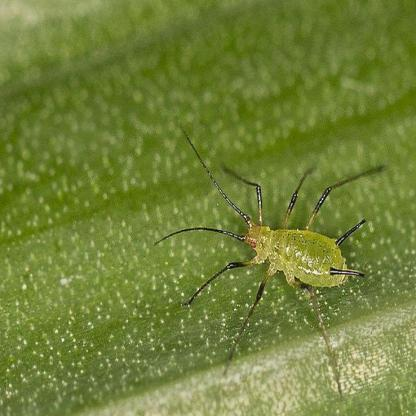aphid: (153, 115, 390, 382)
